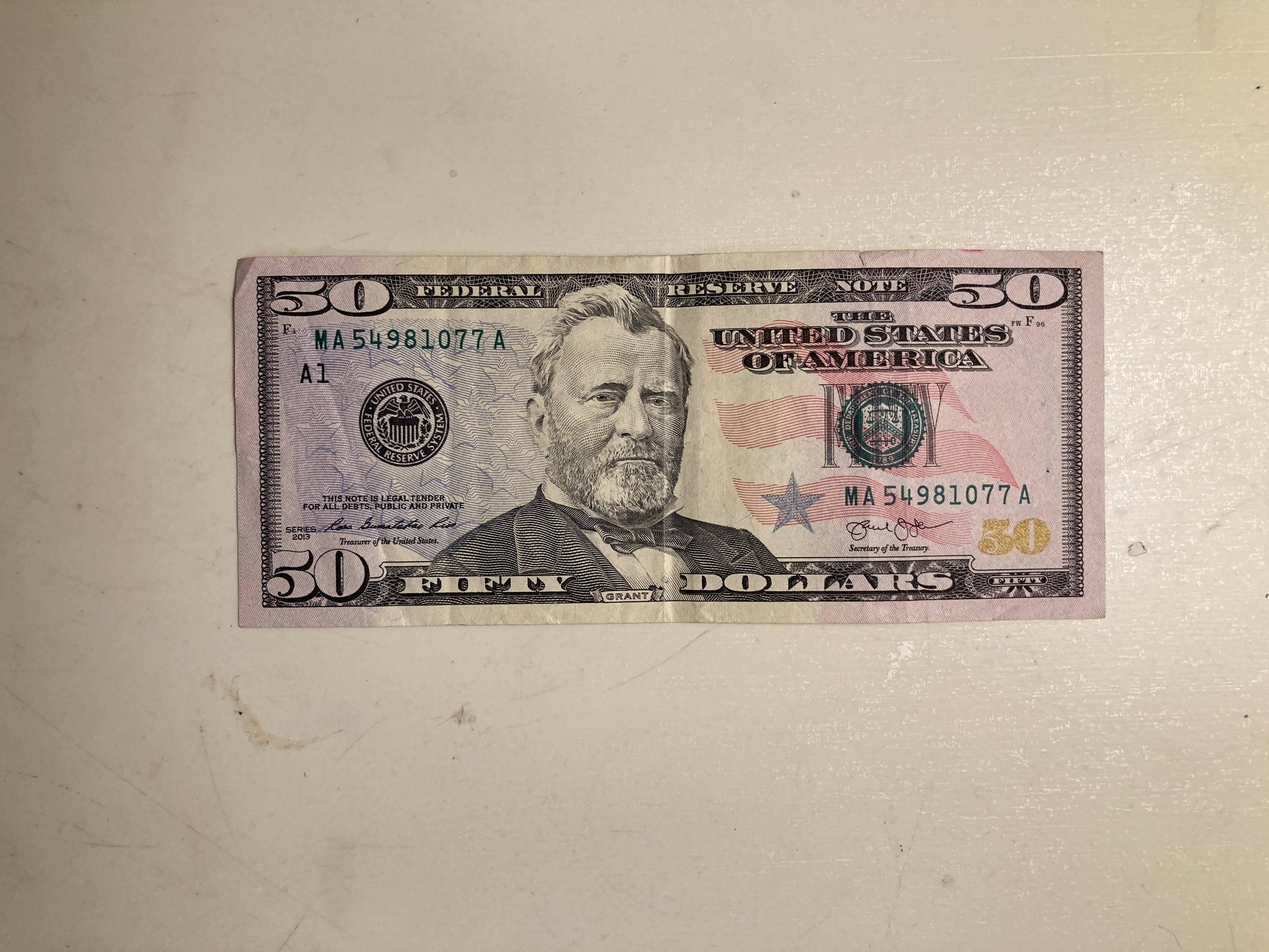fifty-front: (230, 252, 1111, 628)
